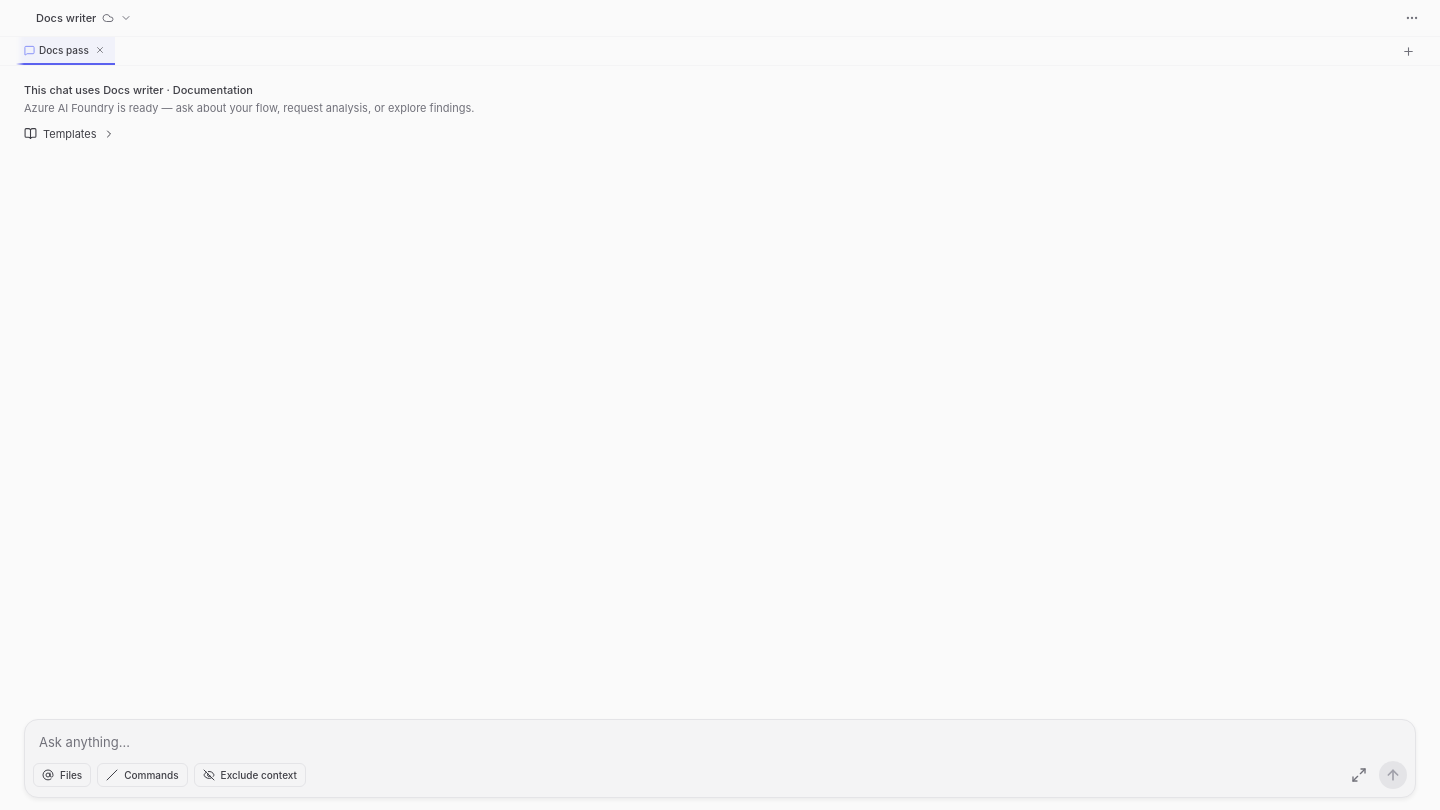
Scenario: AITab per-thread model › a send refused with MODEL_NOT_AVAILABLE: the text returns, the listing refreshes, the notice shows
The width and height of the screenshot is (1440, 810).
Type "Document this flow" into the text box named "Message the assistant".
click(720, 738); type("Document this flow")  # box [25,720,1415,757]
Then press Enter
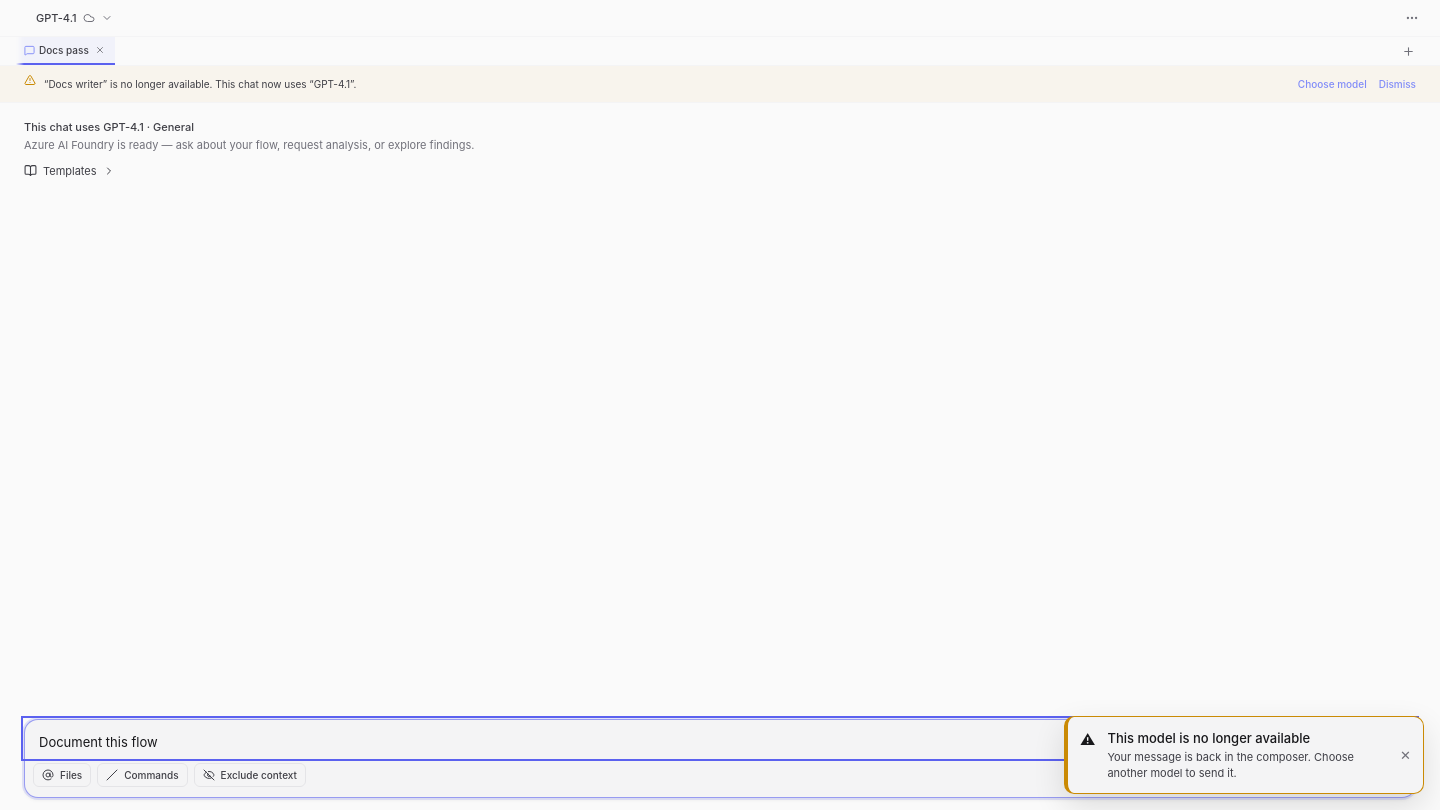
Now the text "“Docs writer” is no longer available. This chat now uses “GPT-4.1”." is shown, box [44,78,356,90]
